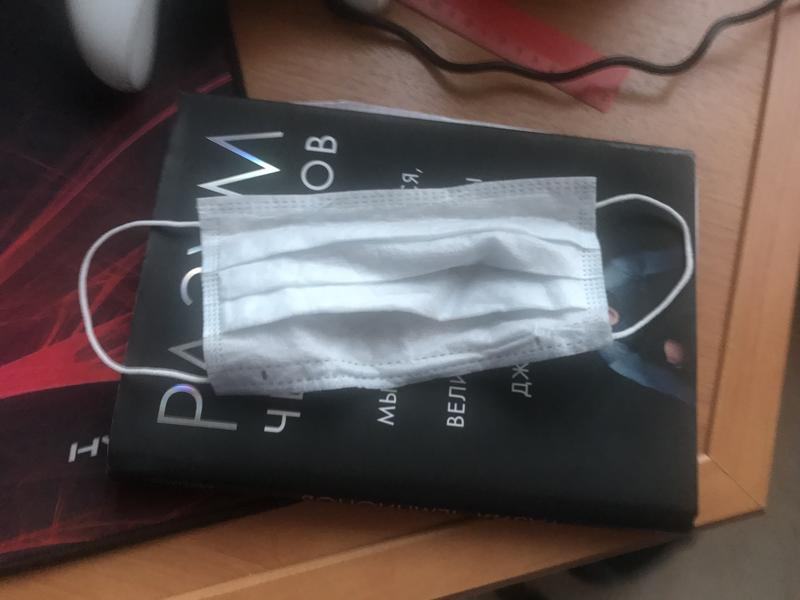medical_mask: (78, 177, 691, 395)
